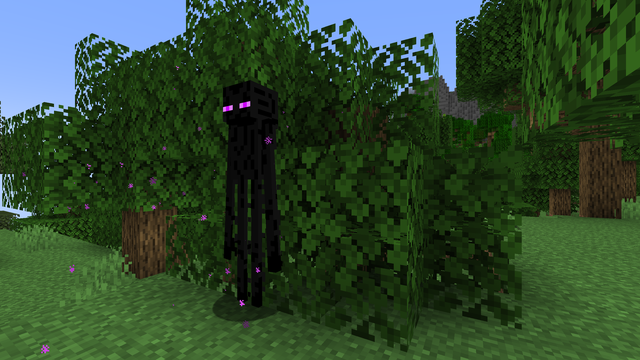endermens: (216, 70, 282, 318)
